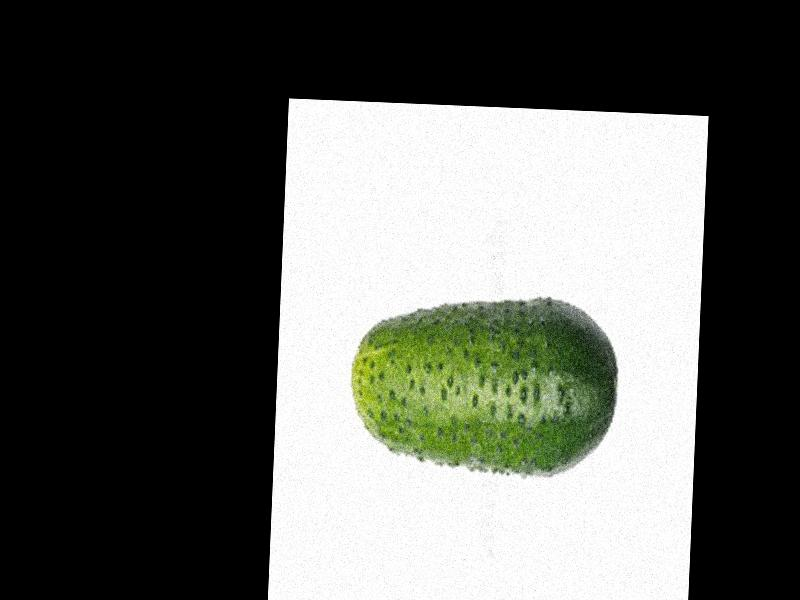Cucumber: (345, 289, 621, 482)
